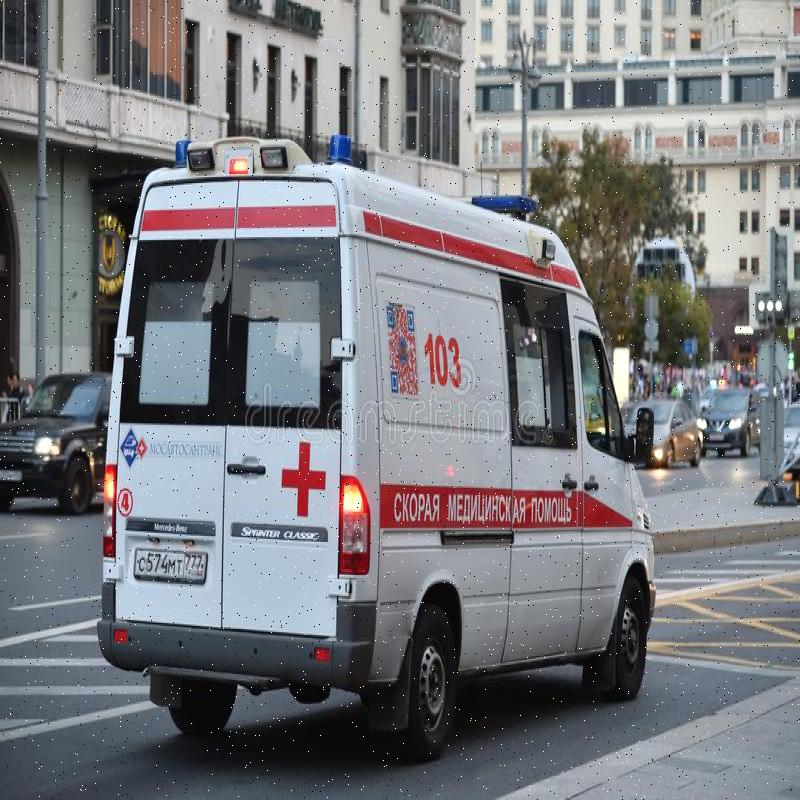ambulance: (60, 101, 670, 753)
